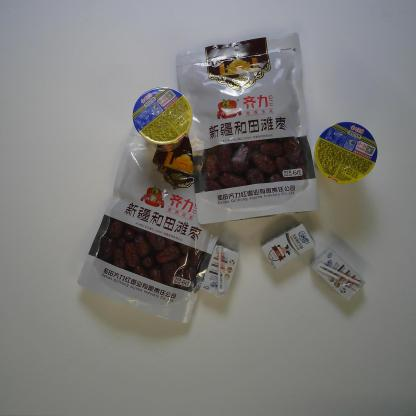Dried Food: (75, 124, 240, 326), (174, 27, 322, 228)
Instant Noodles: (312, 119, 378, 187), (132, 84, 194, 154)
Milk: (309, 247, 367, 305), (259, 221, 318, 272), (199, 243, 241, 299)
